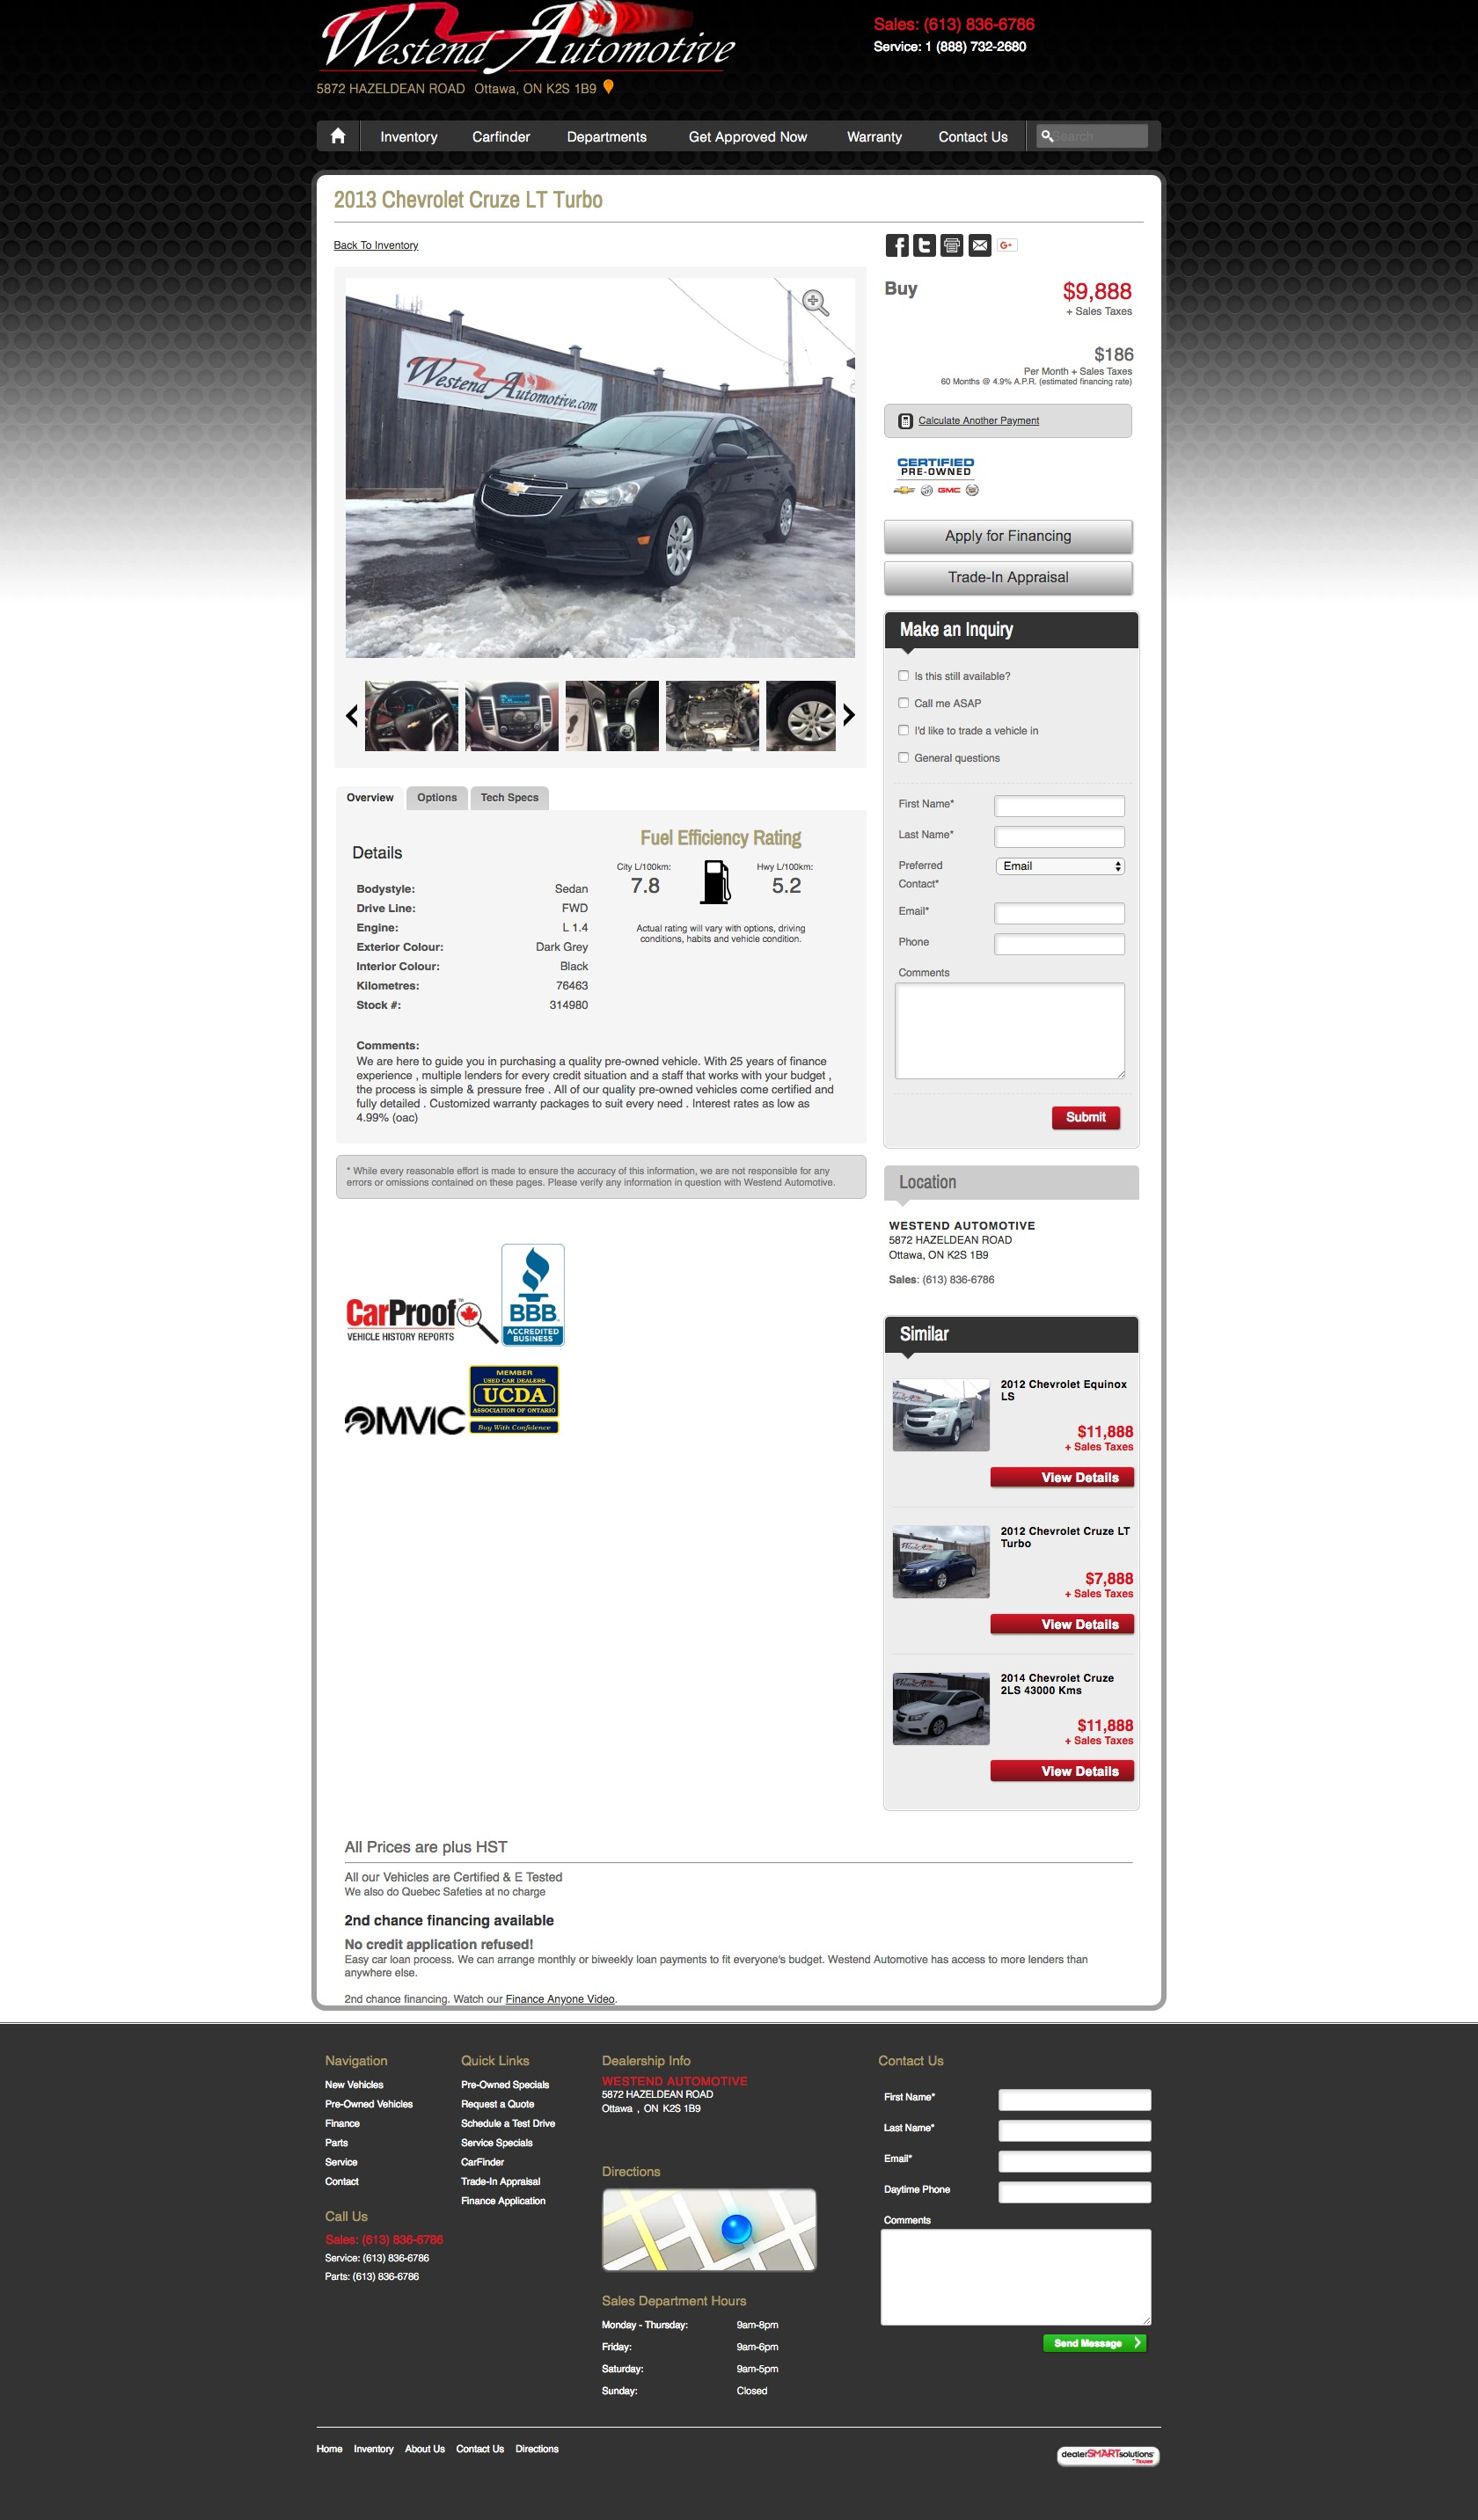car: (843, 703, 857, 730)
